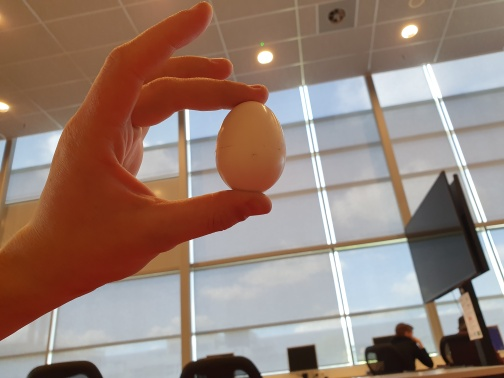egg: (216, 100, 287, 192)
